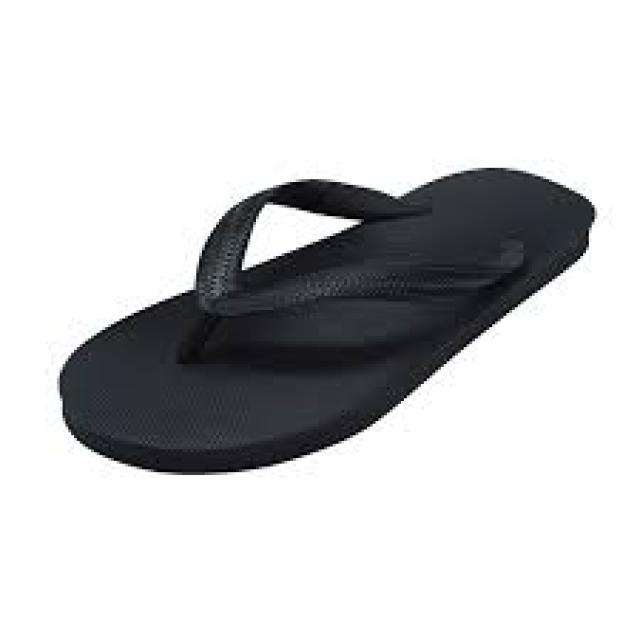Sandals: (54, 126, 600, 496)
